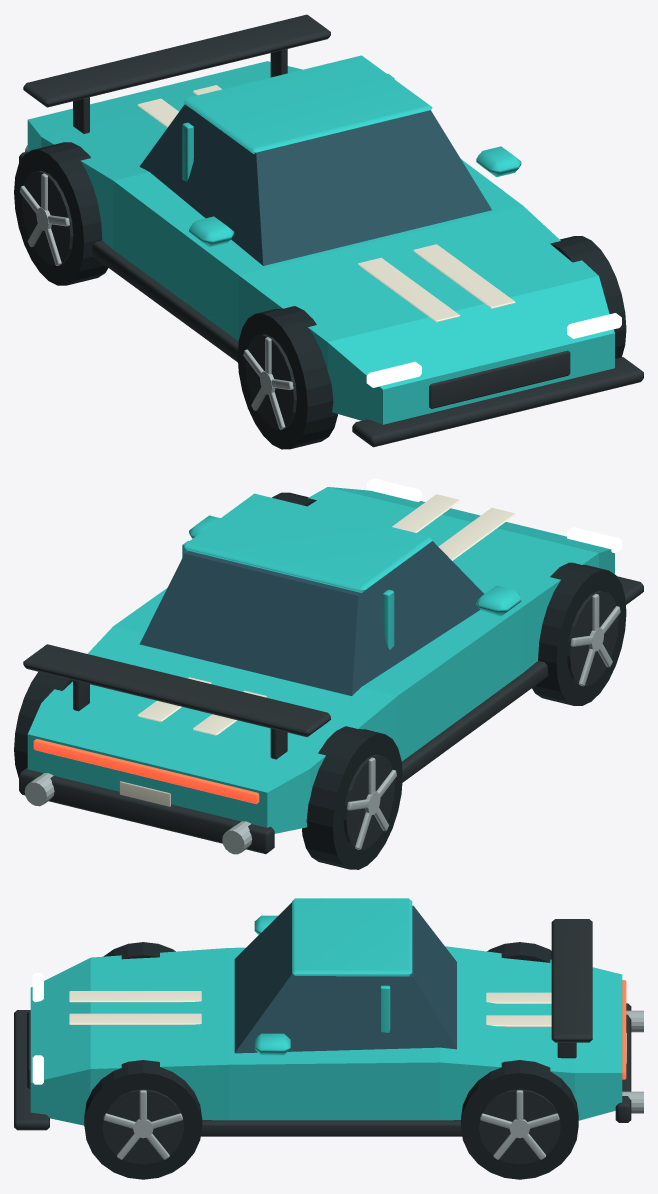
File: coupe.glb
3 renders of one model, top to bottom at view 1: azimuth 30°, elevation 25°; view 2: azimuth 150°, elevation 25°; view 3: azimuth 270°, elevation 25°, orthographic. The views are drawn at different scales.
Visible parts, largest first — view 1: Coupe_body, Panoramic_glass, Roof, Rear_wing, Tire, Tire.001, Front_splitter, Front_grille, Side_skirt, Wheel_rim, Wheel_rim.001, Tire.002 (+8 smaller); view 2: Coupe_body, Panoramic_glass, Roof, Rear_wing, Tire.001, Tire, Rear_diffuser, Side_skirt, Rear_light_bar, Wheel_rim, Wheel_rim.001, Tire.003 (+11 smaller); view 3: Coupe_body, Panoramic_glass, Roof, Tire.003, Tire.002, Rear_wing, Side_skirt.001, Wheel_rim.003, Wheel_rim.002, Front_splitter, Hood_stripe.001, Hood_stripe (+8 smaller).
Boxes of the visible parts, box(x1,y1,x2,y2) form: Coupe_body: box(27, 61, 614, 424); Panoramic_glass: box(139, 104, 491, 265); Roof: box(183, 55, 432, 153); Rear_wing: box(23, 14, 330, 107); Tire: box(237, 306, 337, 449); Tire.001: box(14, 142, 108, 285); Front_splitter: box(352, 357, 643, 447); Front_grille: box(429, 350, 570, 408); Side_skirt: box(92, 240, 238, 362); Wheel_rim: box(245, 334, 296, 429); Wheel_rim.001: box(21, 170, 73, 265); Tire.002: box(550, 236, 626, 358); Coupe_body: box(27, 487, 614, 833); Panoramic_glass: box(139, 541, 484, 695); Roof: box(183, 493, 432, 592); Rear_wing: box(23, 644, 330, 737); Tire.001: box(302, 726, 402, 869); Tire: box(532, 562, 626, 705); Rear_diffuser: box(19, 768, 274, 854); Side_skirt: box(401, 660, 548, 782); Rear_light_bar: box(33, 739, 259, 804); Wheel_rim: box(567, 591, 618, 686); Wheel_rim.001: box(343, 754, 394, 849); Tire.003: box(14, 672, 72, 777); Coupe_body: box(30, 946, 622, 1125); Panoramic_glass: box(234, 902, 456, 1053); Roof: box(292, 898, 412, 976); Tire.003: box(461, 1060, 578, 1179); Tire.002: box(84, 1060, 202, 1179); Rear_wing: box(551, 919, 592, 1042); Side_skirt.001: box(200, 1120, 462, 1136); Wheel_rim.003: box(478, 1089, 560, 1164); Wheel_rim.002: box(102, 1089, 184, 1164); Front_splitter: box(14, 1010, 49, 1130); Hood_stripe.001: box(69, 1013, 201, 1024); Hood_stripe: box(69, 991, 201, 1002).
Bounding box in the file's own units: 2.52 × 1.55 × 4.92.
